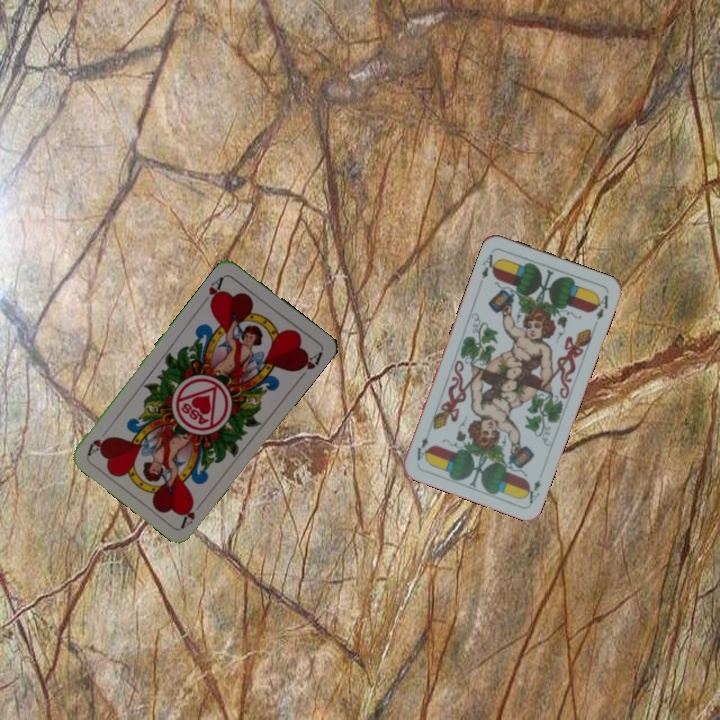EA: (477, 247, 501, 281), (520, 476, 543, 506)
HA: (177, 495, 207, 530), (204, 272, 228, 309)
